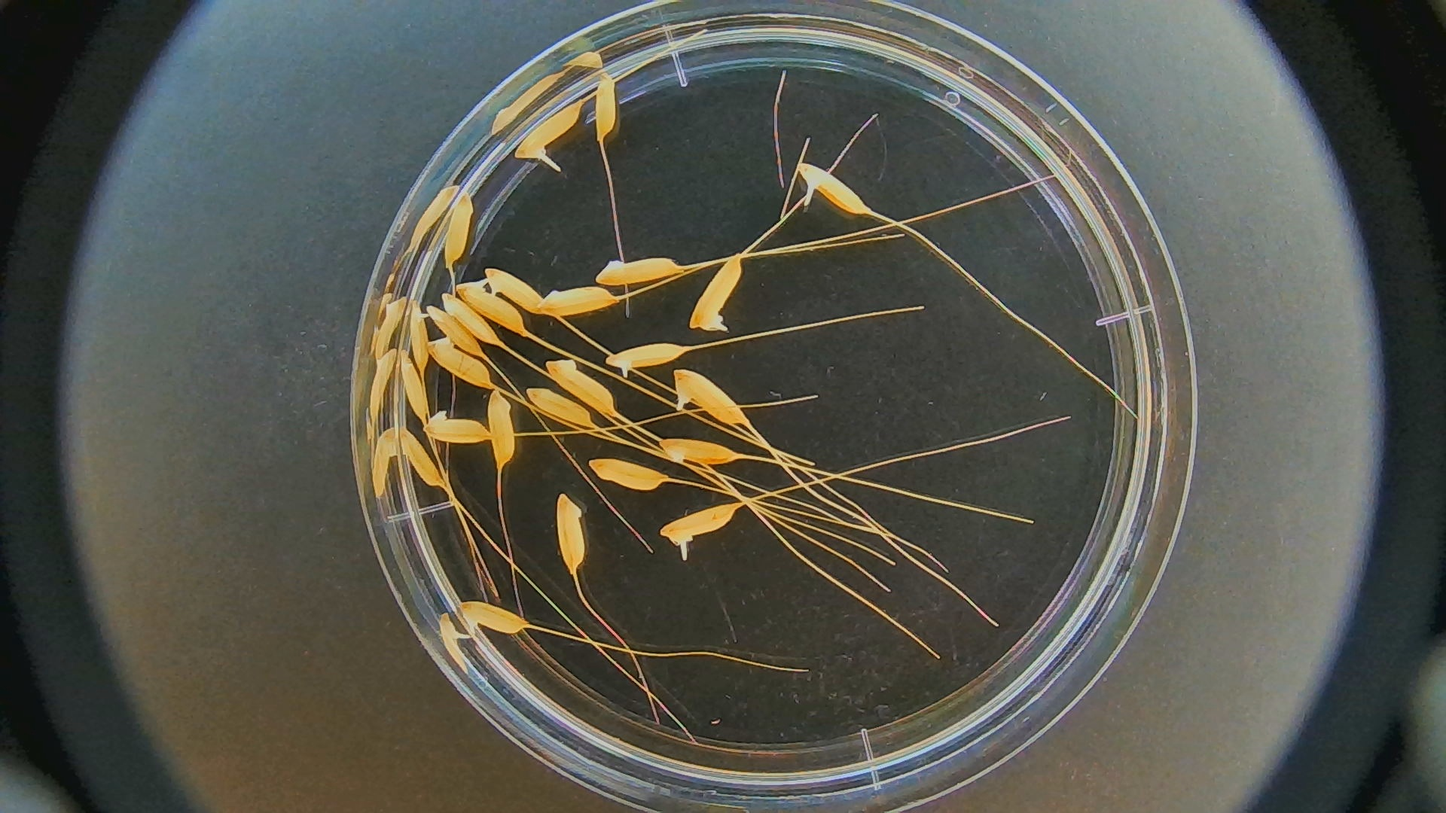no: (545, 357, 617, 417), (435, 287, 499, 351), (426, 303, 485, 368), (553, 489, 594, 576), (397, 427, 449, 492), (587, 254, 687, 287), (526, 384, 596, 431), (438, 193, 474, 281), (587, 456, 667, 494), (538, 287, 624, 322), (589, 72, 621, 161), (654, 434, 743, 466), (482, 392, 519, 468), (391, 348, 429, 421), (418, 409, 492, 446)
yes: (684, 253, 743, 340), (456, 279, 534, 338), (794, 160, 869, 221), (515, 98, 584, 163), (424, 339, 496, 399), (673, 369, 746, 426), (602, 340, 696, 377), (660, 502, 732, 547), (451, 598, 532, 637), (482, 266, 545, 312), (409, 301, 435, 374)
